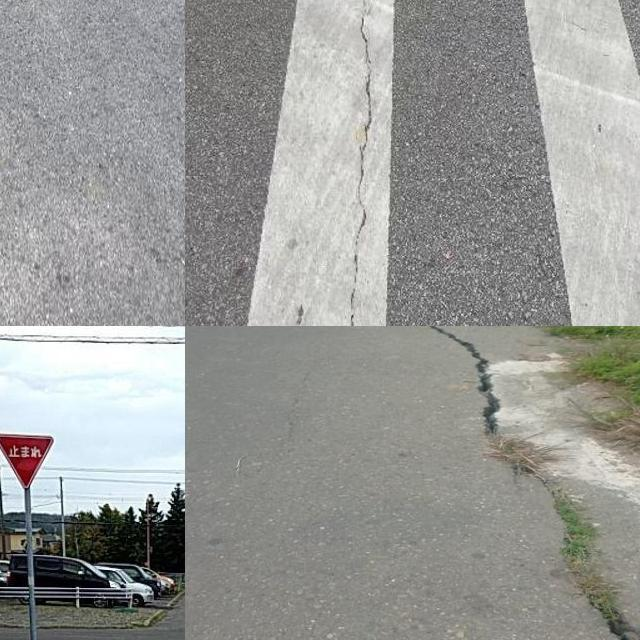Memanjang: (389, 326, 640, 640), (338, 0, 385, 326)
